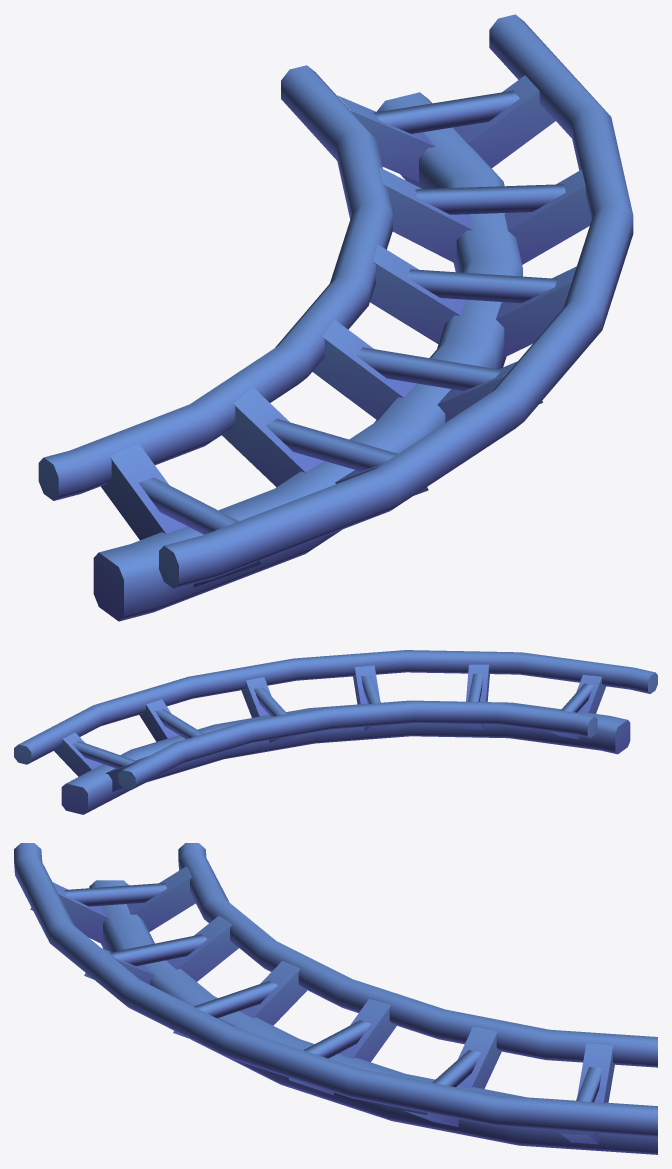
The model's file is kenney-coaster-coaster-steel-corner-small.glb.
The picture shows the model from 3 angles, top to bottom: view 1: azimuth 30°, elevation 25°; view 2: azimuth 150°, elevation 25°; view 3: azimuth 270°, elevation 25°; orthographic projection. The views are drawn at different scales.
Parts seen in each view (by area): view 1: coaster-steel-corner-small; view 2: coaster-steel-corner-small; view 3: coaster-steel-corner-small.
Boxes of the visible parts, x1,y1,x2,y2 form: coaster-steel-corner-small: [38, 14, 633, 621]; coaster-steel-corner-small: [14, 650, 657, 814]; coaster-steel-corner-small: [14, 843, 657, 1154].
Bounding box in the file's own units: 2.35 × 0.3001 × 2.35.
1 material, 1 textured.
